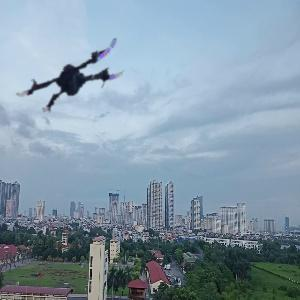drone: (14, 13, 127, 126)
